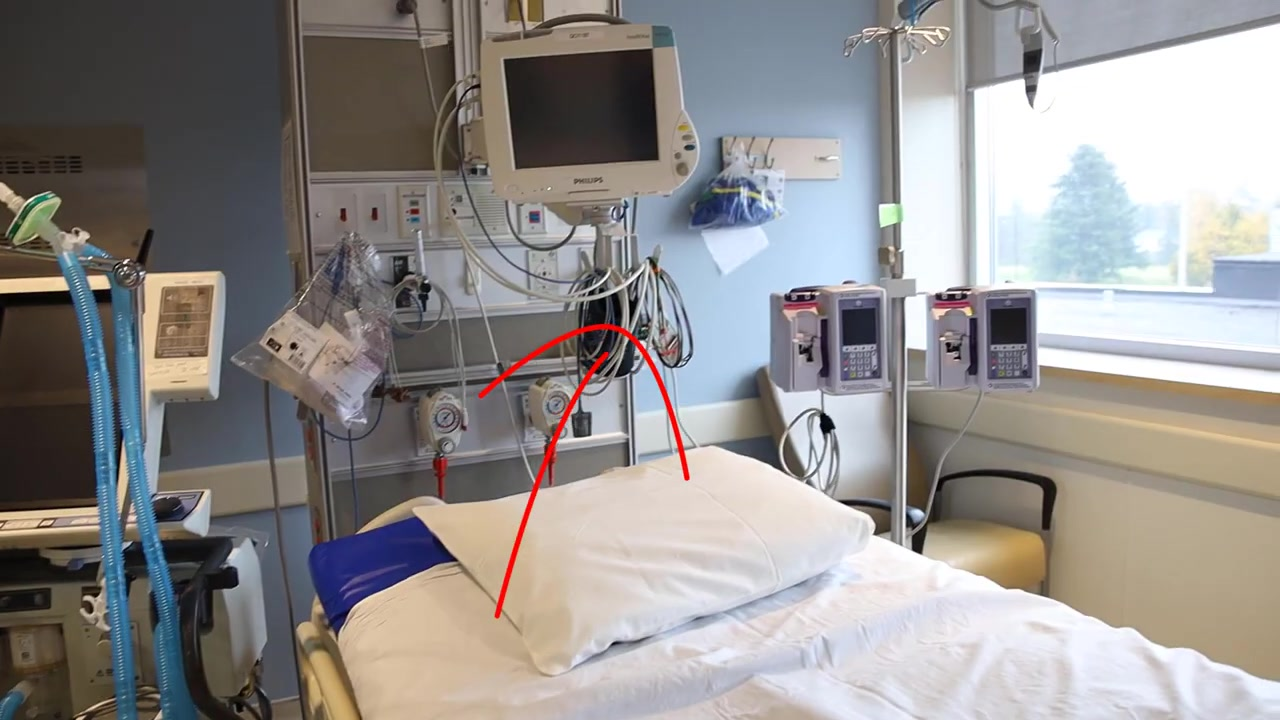bedrail: (288, 618, 364, 720)
bedside_monitor: (480, 30, 701, 204)
breathing_tube: (1, 179, 202, 720)
chair: (753, 364, 1057, 597)
hospital_bed: (276, 446, 1280, 720)
infusion_pump: (771, 285, 888, 393), (925, 288, 1037, 397)
iv_pole: (842, 19, 949, 550)
sequential_compression: (556, 242, 700, 387)
ventilator: (1, 259, 269, 720)
